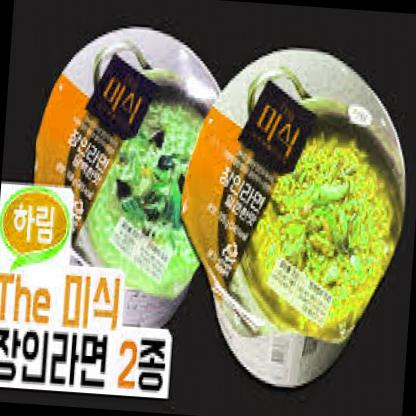Ramen: (189, 39, 408, 394), (23, 17, 233, 326)
